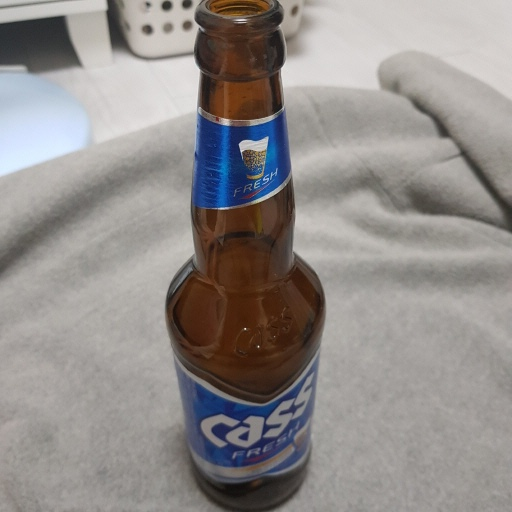Glass_1: (163, 1, 327, 512)
